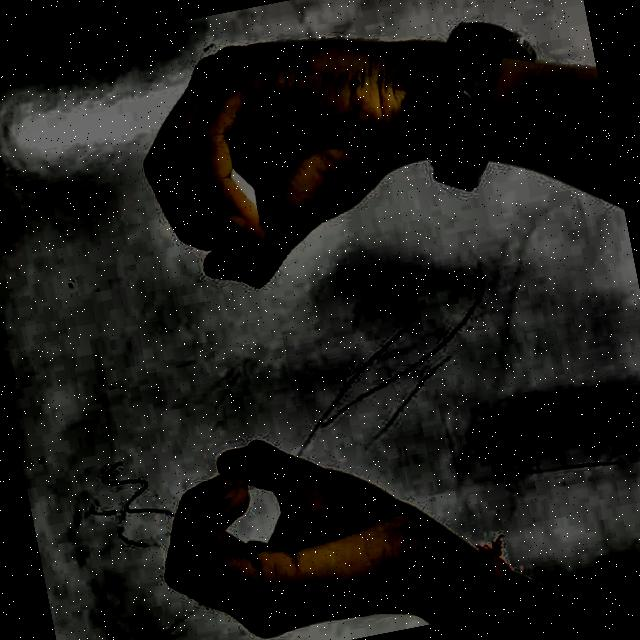Bisharga: (45, 0, 536, 640)
